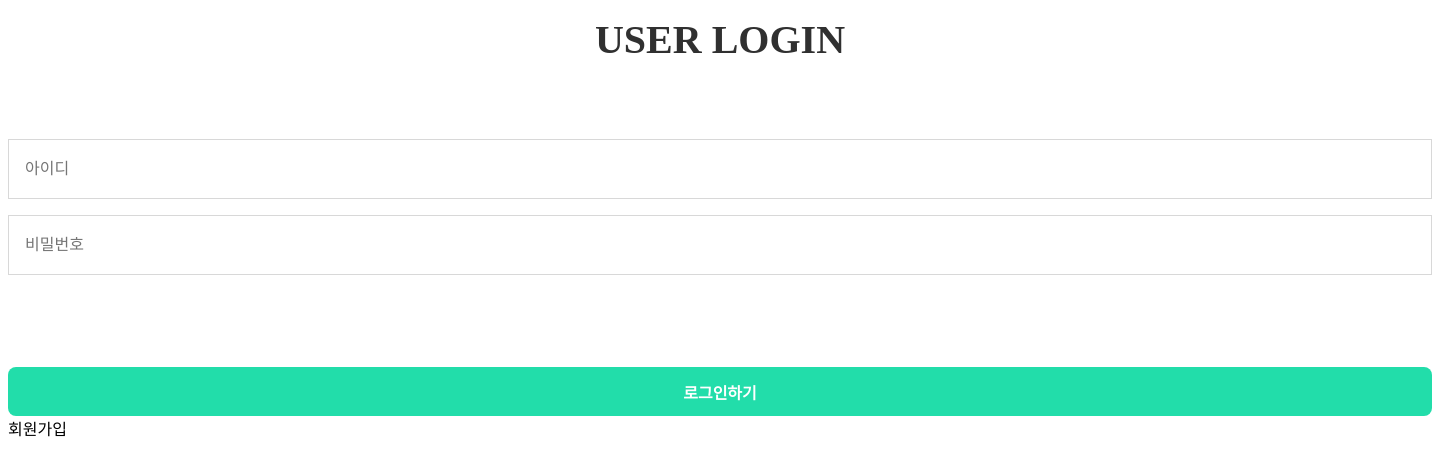
Scenario: LoginForm › when cant find member by memberName › show error message
The image size is (1440, 454).
Expected: the heading "USER LOGIN" is shown, [595,17,845,62]
Type "notfound" into the field with placeholder "아이디".
click(720, 169); type("notfound")  # box [8,139,1432,199]
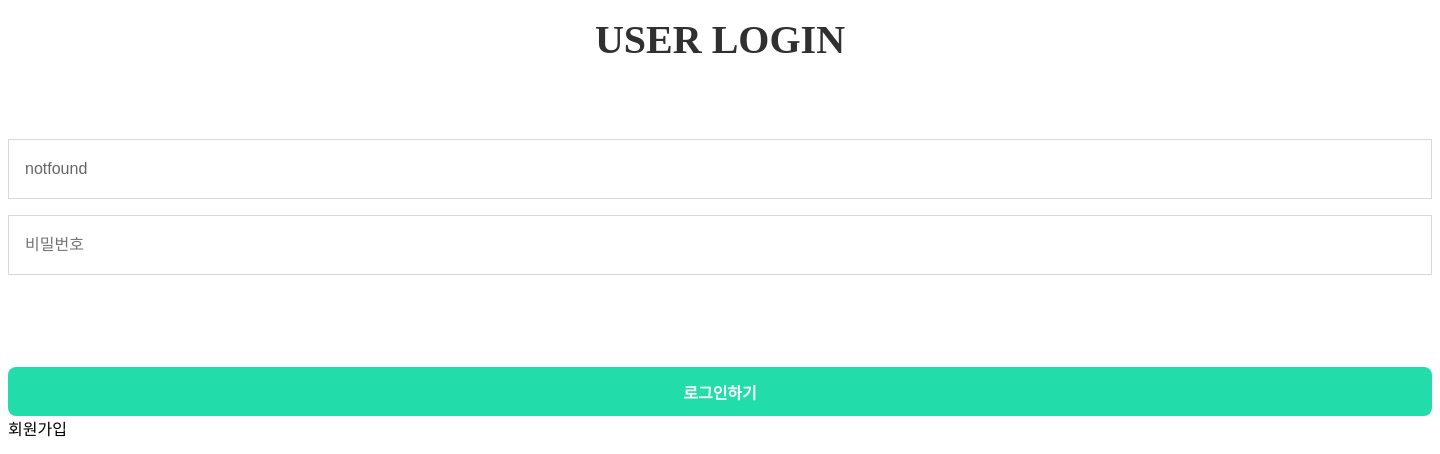
Type "Password1234!" into the password field with placeholder "비밀번호".
click(720, 245); type("Password1234!")  # box [8,215,1432,275]
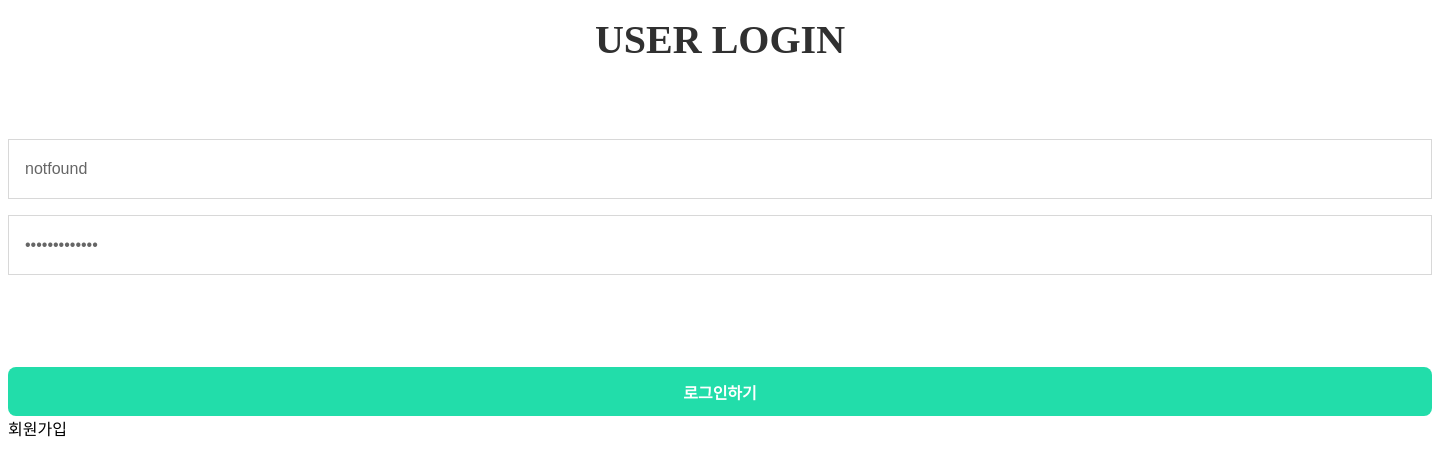
Click the button "로그인하기".
click(720, 392)  # box [8,367,1432,416]
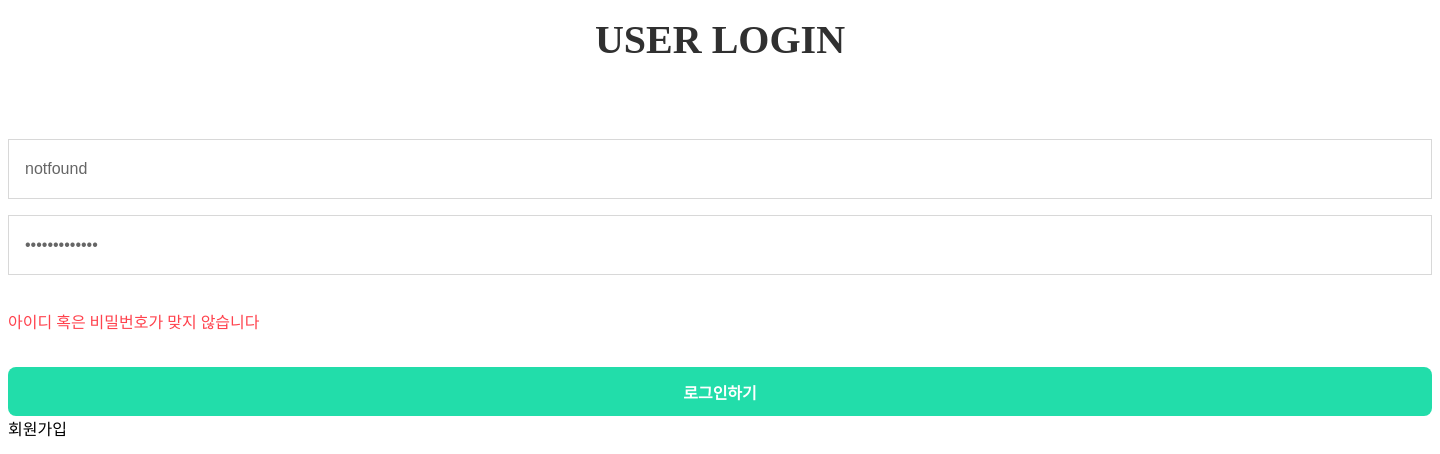
Now the text "아이디 혹은 비밀번호가 맞지 않습니다" is shown, box [8,314,260,331]
